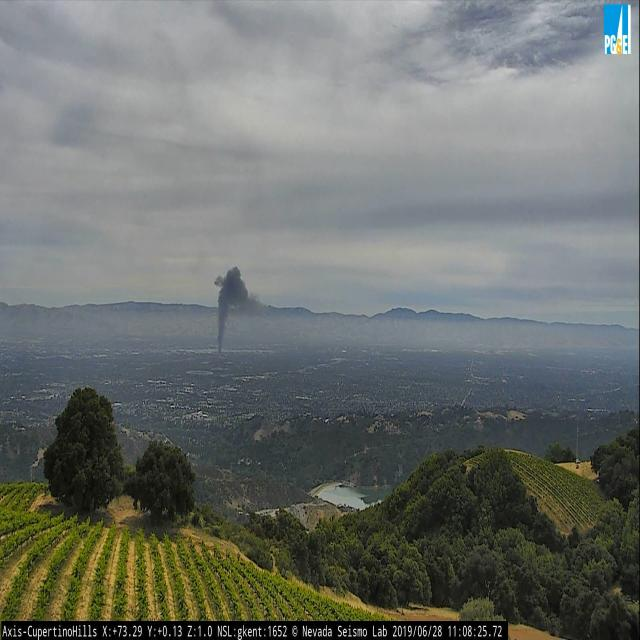smoke: (215, 266, 249, 360)
